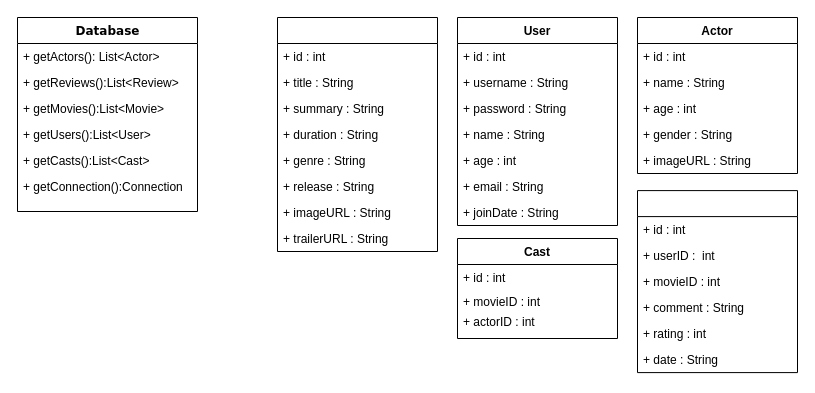
This 815x393 diagram has some shape labels left out. Here are the shapes that lost their labels. From the top down, the box of each, then its label:
(276, 16, 438, 252): Movie
(636, 190, 798, 373): Review
